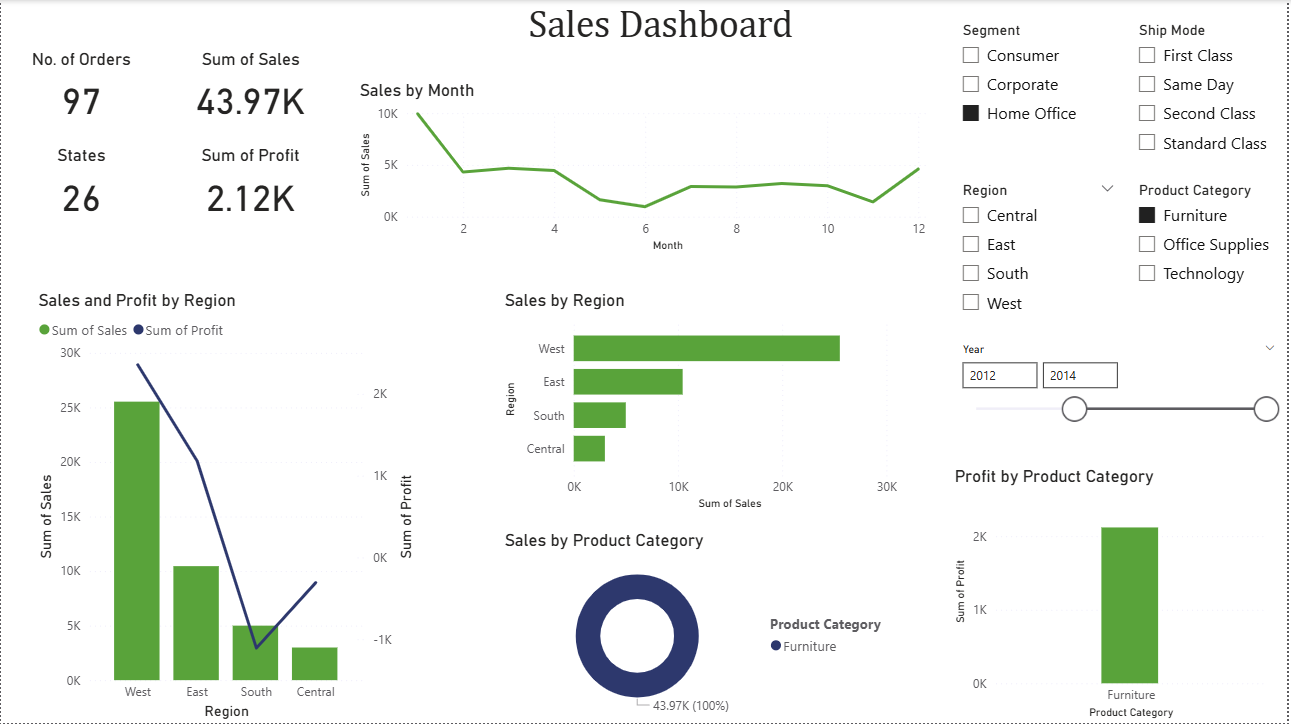

The page's visual inventory and layout, read from the dashboard file:
{"tool":"powerbi","page":{"name":"Page 1","canvas":[1280,720],"ordinal":0},"visuals":[{"type":"card","title":"No. of Orders","fields":{"Values":["Count(Superstore_sales.Order ID)"]},"box":[0,48,160,80],"z":0},{"type":"card","title":"Sum of Sales","fields":{"Values":["Sum(Superstore_sales.Sales)"]},"box":[160,48,176,80],"z":1000},{"type":"card","title":"Sum of Profit","fields":{"Values":["Sum(Superstore_sales.Profit)"]},"box":[160,144,176,80],"z":2000},{"type":"card","title":"States","fields":{"Values":["Count(Superstore_sales.State)"]},"box":[0,144,160,80],"z":3000},{"type":"slicer","fields":{"Values":["Superstore_sales.Product Category"]},"box":[1120,176,160,160],"z":3001},{"type":"slicer","fields":{"Values":["Superstore_sales.Region"]},"box":[944,176,176,160],"z":3002},{"type":"slicer","fields":{"Values":["Superstore_sales.Ship Mode"]},"box":[1120,16,160,160],"z":3003},{"type":"slicer","fields":{"Values":["Superstore_sales.Segment"]},"box":[944,16,176,160],"z":3004},{"type":"lineChart","title":"Sales by Month","fields":{"Category":["Superstore_sales.Month"],"Y":["Sum(Superstore_sales.Sales)"]},"box":[352,80,576,176],"z":3005},{"type":"slicer","fields":{"Values":["Superstore_sales.Year"]},"box":[944,336,336,96],"z":3006},{"type":"clusteredBarChart","title":"Sales by Region","fields":{"Category":["Superstore_sales.Region"],"Y":["Sum(Superstore_sales.Sales)"]},"box":[496,288,400,224],"z":3007},{"type":"donutChart","title":"Sales by Product Category","fields":{"Category":["Superstore_sales.Product Category"],"Y":["Sum(Superstore_sales.Sales)"]},"box":[496,528,400,192],"z":3008},{"type":"lineClusteredColumnComboChart","title":"Sales and Profit by Region","fields":{"Y":["Sum(Superstore_sales.Sales)"],"Category":["Superstore_sales.Region"],"Y2":["Sum(Superstore_sales.Profit)"]},"box":[32,288,384,432],"z":3009},{"type":"clusteredColumnChart","title":"Profit by Product Category","fields":{"Category":["Superstore_sales.Product Category"],"Y":["Sum(Superstore_sales.Profit)"]},"box":[944,464,320,256],"z":3010},{"type":"textbox","box":[400,0,512,64],"z":3011}]}

Visuals, with their boxes in screenshot pixels (x1, y1, x2, y2), scaled from the page's 1280x720 canvas onto the 1291x724 screenshot:
"No. of Orders" card: bbox=(0, 48, 161, 129)
"Sum of Sales" card: bbox=(161, 48, 339, 129)
"Sum of Profit" card: bbox=(161, 145, 339, 225)
"States" card: bbox=(0, 145, 161, 225)
slicer - Superstore_sales.Product Category: bbox=(1130, 177, 1290, 338)
slicer - Superstore_sales.Region: bbox=(952, 177, 1130, 338)
slicer - Superstore_sales.Ship Mode: bbox=(1130, 16, 1290, 177)
slicer - Superstore_sales.Segment: bbox=(952, 16, 1130, 177)
"Sales by Month" lineChart: bbox=(355, 80, 936, 257)
slicer - Superstore_sales.Year: bbox=(952, 338, 1290, 434)
"Sales by Region" clusteredBarChart: bbox=(500, 290, 904, 515)
"Sales by Product Category" donutChart: bbox=(500, 531, 904, 723)
"Sales and Profit by Region" lineClusteredColumnComboChart: bbox=(32, 290, 420, 723)
"Profit by Product Category" clusteredColumnChart: bbox=(952, 467, 1275, 723)
textbox: bbox=(403, 0, 920, 64)
